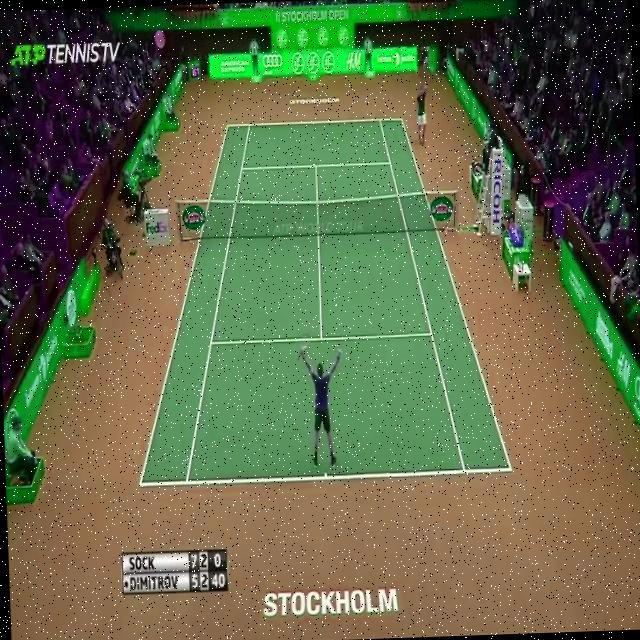court: (125, 114, 512, 488)
net: (174, 189, 460, 240)
player: (295, 330, 346, 470)
